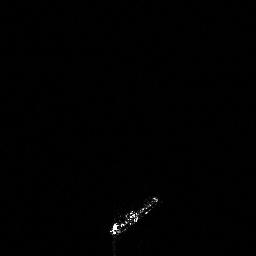ship: (111, 196, 157, 234)
